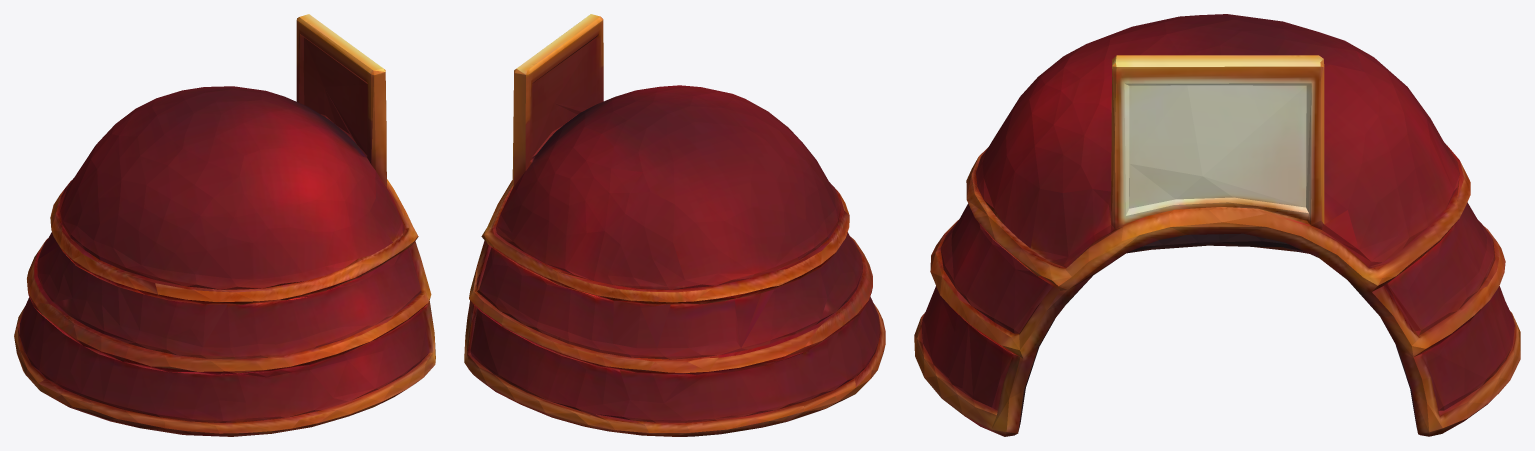
File: dsa_deadeye_pauldron_lo.glb
The picture shows the model from 3 angles, left to right: view 1: azimuth 30°, elevation 25°; view 2: azimuth 150°, elevation 25°; view 3: azimuth 270°, elevation 25°; orthographic projection. The views are drawn at different scales.
Parts seen in each view (by area): view 1: tmphzvt80mv.ply; view 2: tmphzvt80mv.ply; view 3: tmphzvt80mv.ply.
Boxes of the visible parts, box(x1,y1,x2,y2) form: tmphzvt80mv.ply: box(14, 14, 435, 436); tmphzvt80mv.ply: box(464, 14, 885, 436); tmphzvt80mv.ply: box(914, 14, 1520, 436).
Bounding box in the file's own units: 1.66 × 1.39 × 1.99.
1 material, 1 textured.
